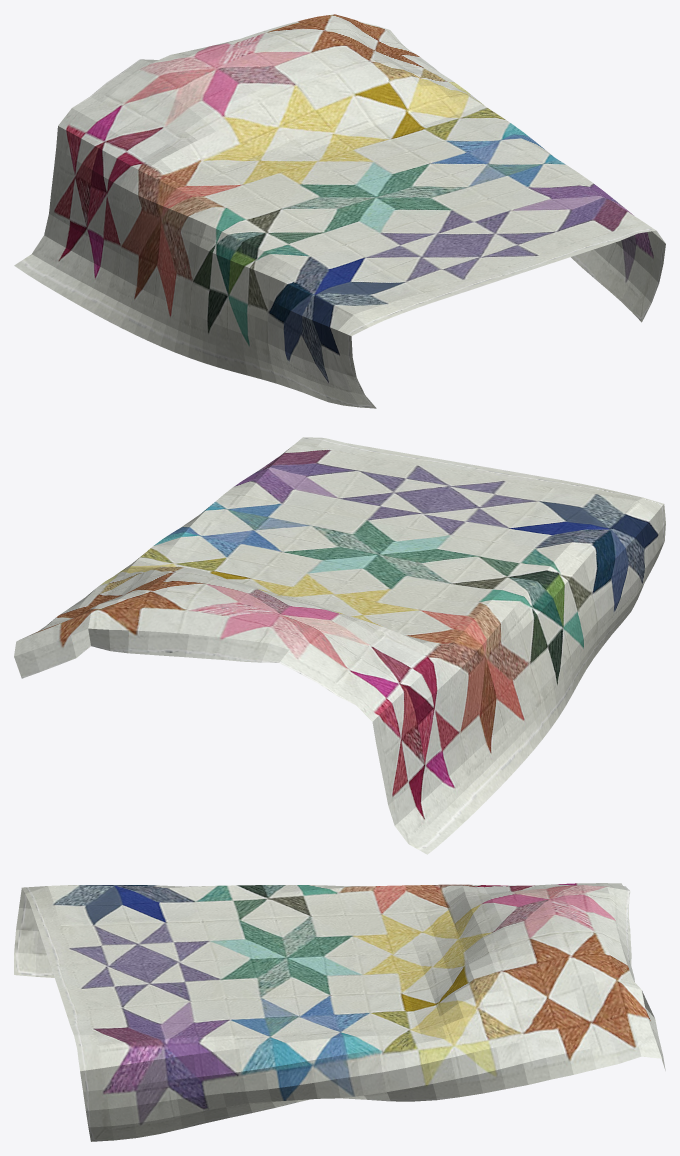
Rendered from quilt.glb.
The picture shows the model from 3 angles, top to bottom: view 1: azimuth 30°, elevation 25°; view 2: azimuth 150°, elevation 25°; view 3: azimuth 270°, elevation 25°; orthographic projection. The views are drawn at different scales.
Visible parts, largest first — view 1: Plane; view 2: Plane; view 3: Plane.
Boxes of the visible parts, bbox=[...] form: Plane: bbox=[14, 14, 665, 408]; Plane: bbox=[14, 437, 665, 854]; Plane: bbox=[14, 883, 665, 1141].
Size of the model in its own units: 1.44 by 0.6331 by 2.01.
1 material, 1 textured.
